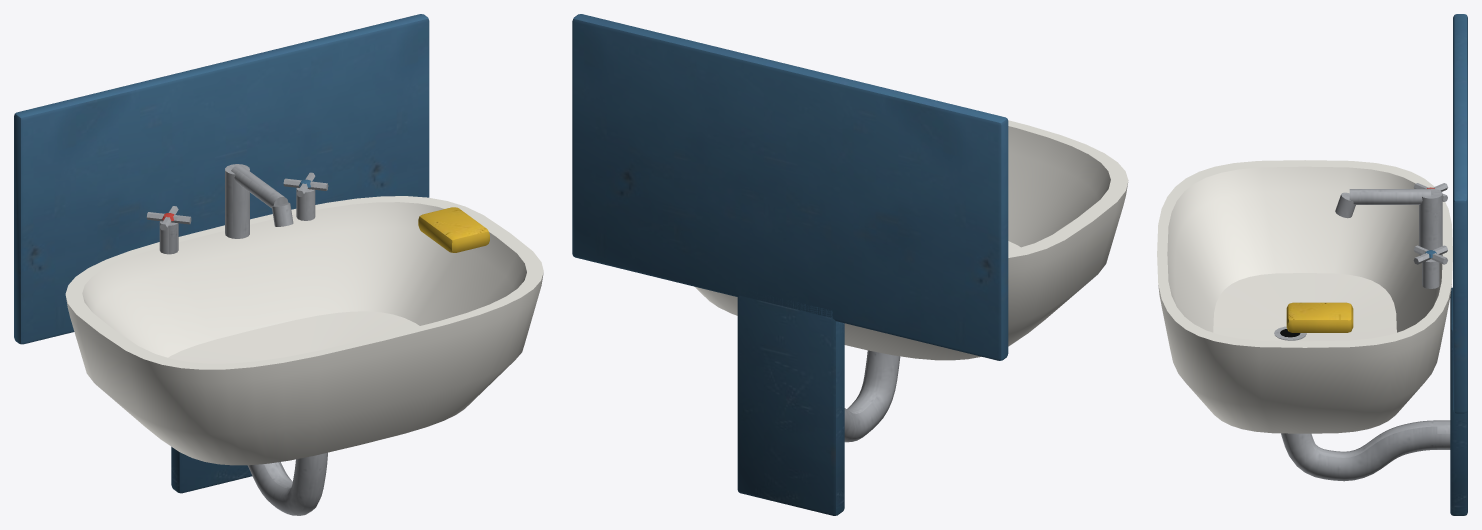
File: sink.glb
The picture shows the model from 3 angles, left to right: view 1: azimuth 30°, elevation 25°; view 2: azimuth 150°, elevation 25°; view 3: azimuth 270°, elevation 25°; orthographic projection. The views are drawn at different scales.
Parts seen in each view (by area): view 1: SinkBody; view 2: SinkBody; view 3: SinkBody.
Boxes of the visible parts, x1,y1,x2,y2 form: SinkBody: [14, 14, 543, 515]; SinkBody: [572, 14, 1128, 515]; SinkBody: [1157, 14, 1467, 515].
Bounding box in the file's own units: 0.6 × 0.58 × 0.42.
7 materials, 5 textured.
